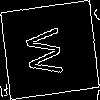W: (24, 25, 72, 79)
